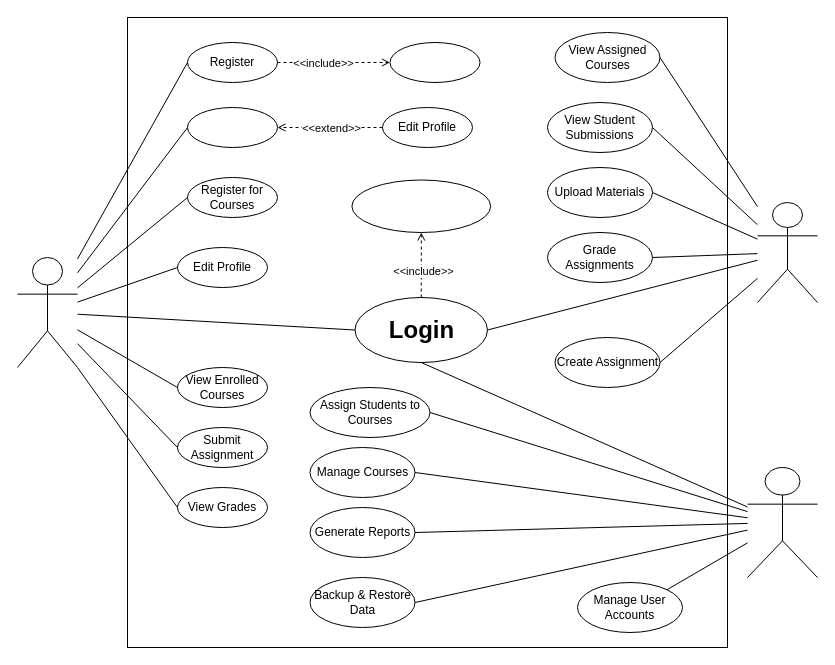
Image size: 835x665. Some labels were removed from this diagram. Each missing label, with the centre of its shape:
Administrator: point (782, 522)
Authenticate User: point (421, 205)
Faculty: point (787, 252)
Student: point (47, 312)
Validate Input: point (434, 62)
View Personal Profile: point (232, 127)
